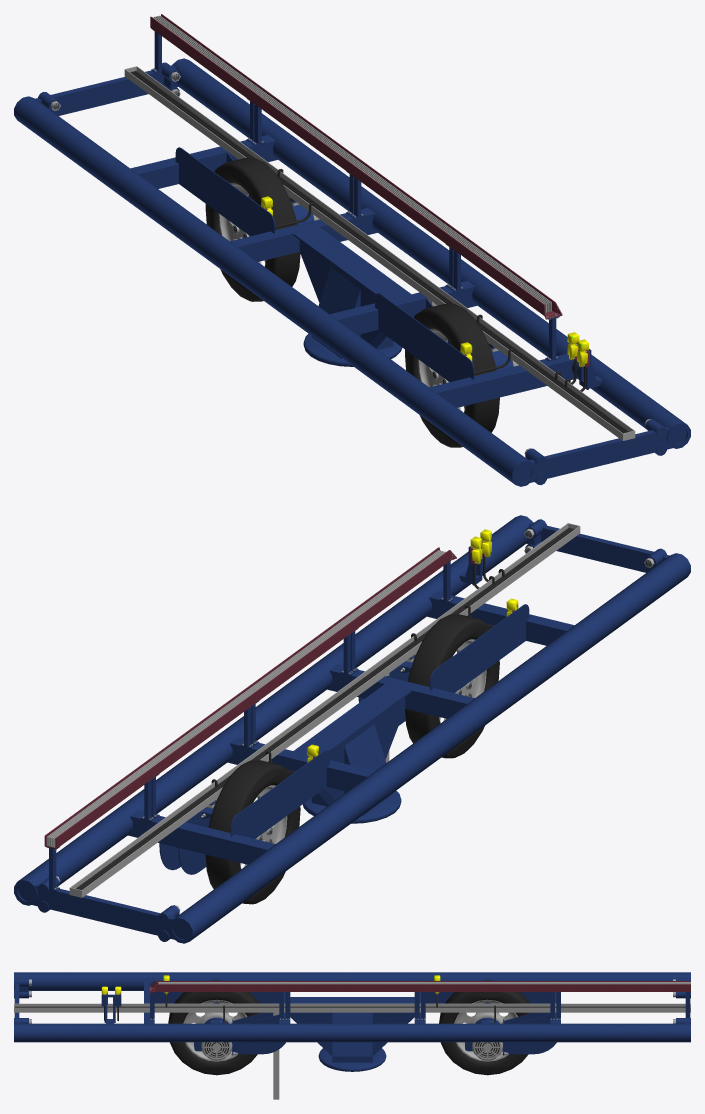
Rendered from Station Start section.dae.
3 renders of one model, top to bottom at view 1: azimuth 30°, elevation 25°; view 2: azimuth 150°, elevation 25°; view 3: azimuth 270°, elevation 25°, orthographic. The views are drawn at different scales.
Visible parts, largest first — view 1: Track (×8), Mid_Detail (×9), wheel0, wheel1, High_Detail (×2); view 2: Track (×8), Mid_Detail (×9), High_Detail (×3), wheel1, wheel0; view 3: Track (×6), Mid_Detail (×9), High_Detail (×6), wheel0 (×3), wheel1 (×3).
Boxes of the visible parts, x1,y1,x2,y2 form: Track (×8): [14, 58, 690, 486]; Mid_Detail (×9): [124, 14, 635, 440]; wheel0: [405, 303, 499, 447]; wheel1: [205, 158, 300, 301]; High_Detail (×2): [131, 70, 628, 432]; Track (×8): [14, 515, 690, 943]; Mid_Detail (×9): [45, 523, 580, 897]; High_Detail (×3): [76, 527, 573, 889]; wheel1: [205, 760, 300, 904]; wheel0: [405, 614, 499, 758]; Track (×6): [14, 972, 690, 1071]; Mid_Detail (×9): [14, 980, 690, 1099]; High_Detail (×6): [14, 994, 685, 1059]; wheel0 (×3): [168, 980, 261, 1075]; wheel1 (×3): [439, 980, 532, 1075].
Size of the model in its own units: 40.76 by 197 by 39.54.
Materials: 9 (3 with a texture image).
